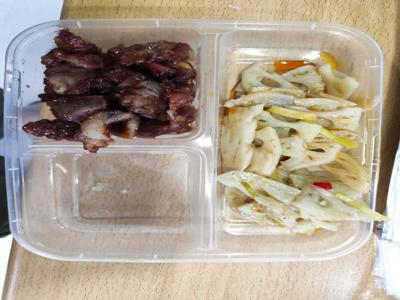r1: (14, 28, 206, 154)
